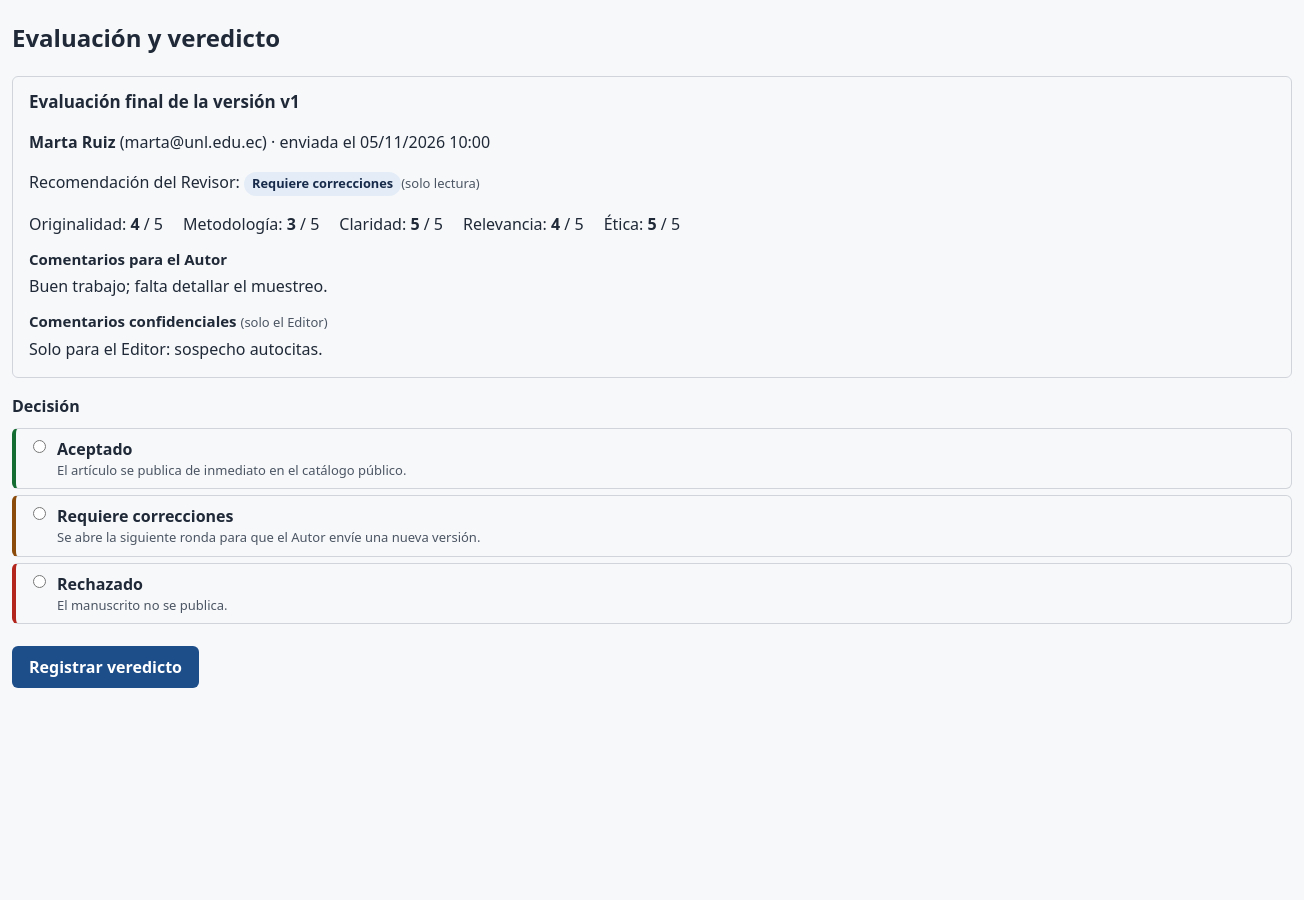
VerdictFormComponent › validación › pedir correcciones exige las observaciones
This screenshot has width=1304, height=900.
What coordinates should you click on to do the following:
click the 2nd radio button
I would click on:
 (40, 514)
Its box is [33,507,46,520].
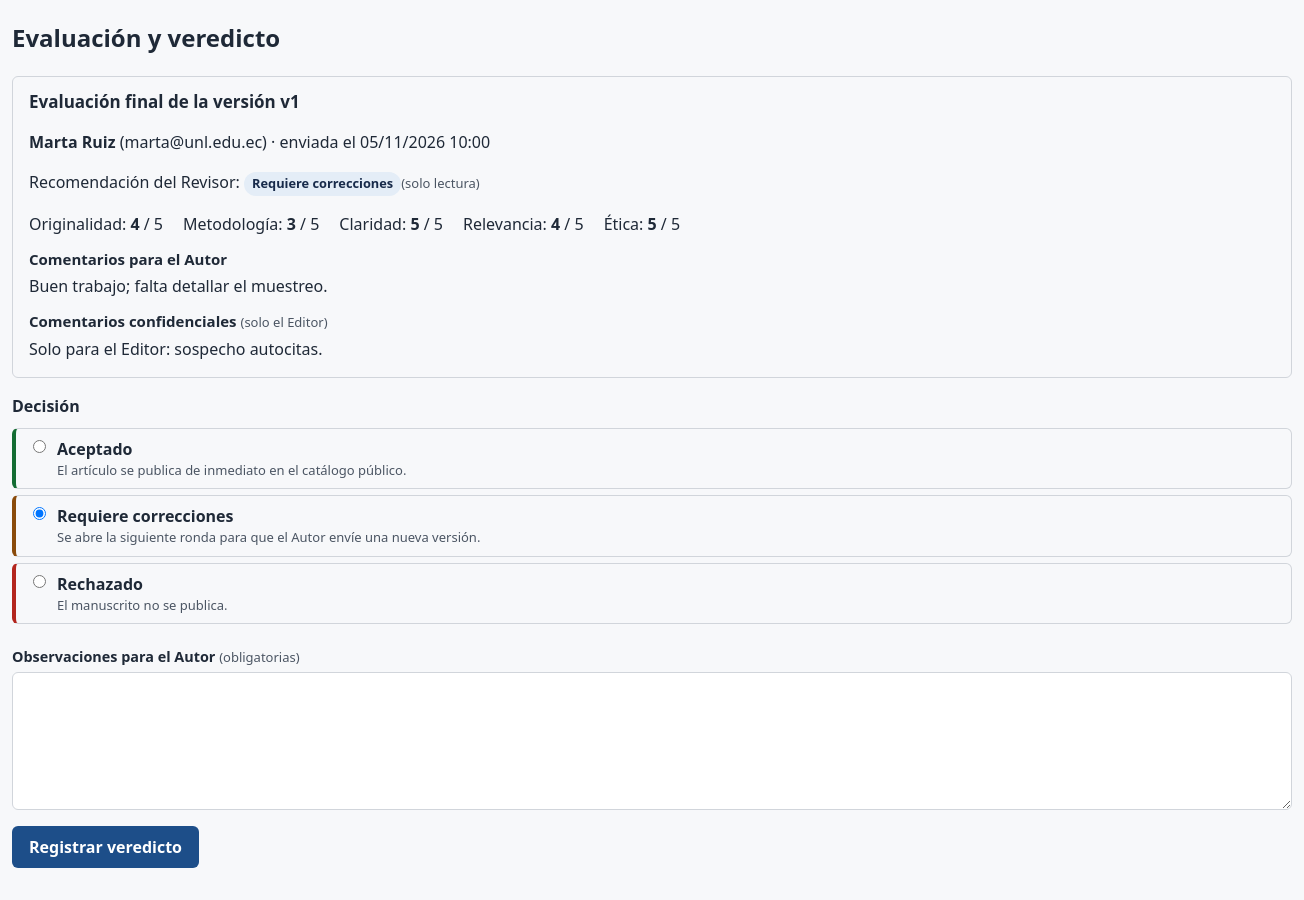
Now the text box named "observations" is shown, box [12,672,1292,810]
What coordinates should you click on to do the following:
click the submit button
I would click on:
 (106, 847)
Its box is [12,826,199,868].
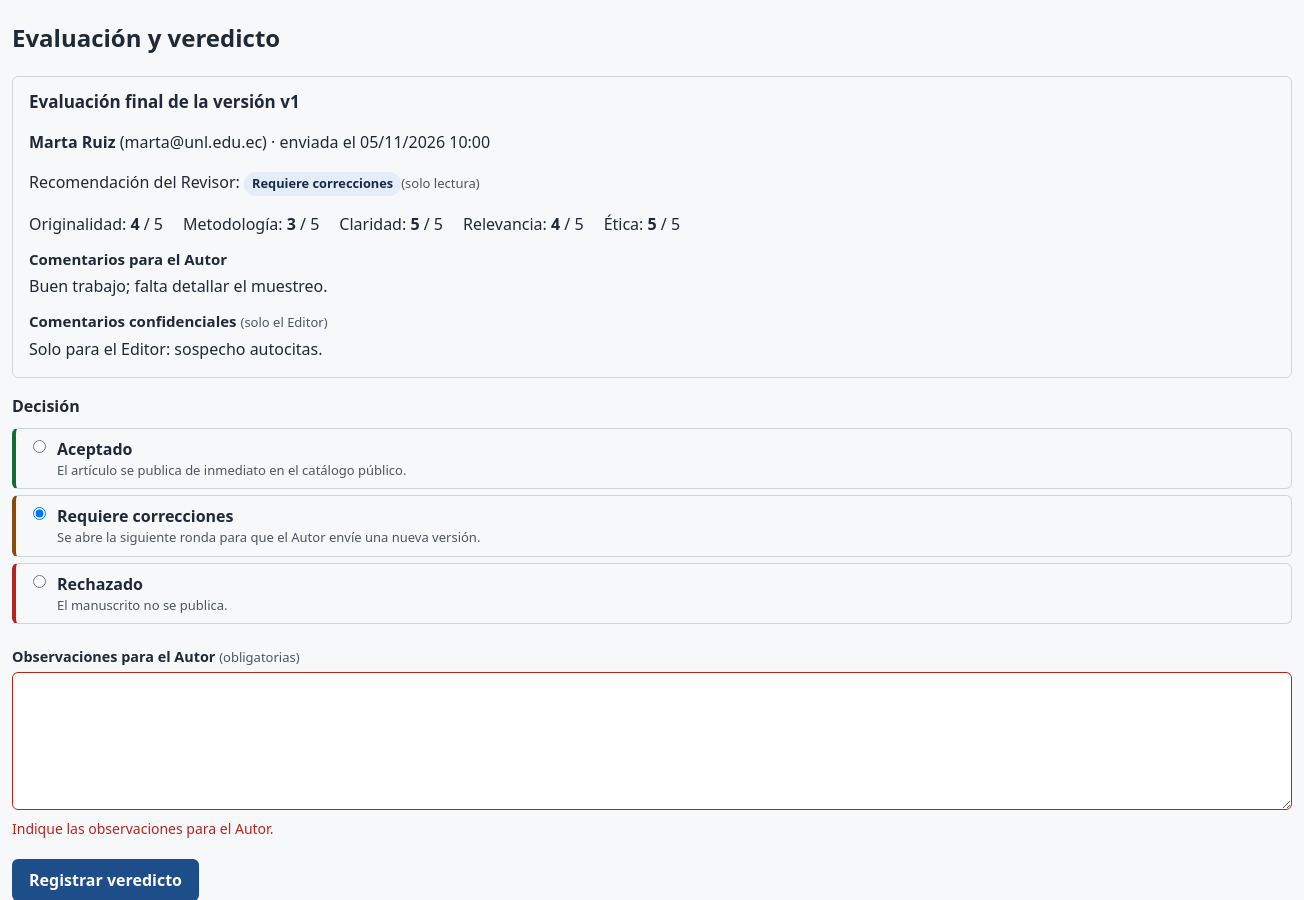
Now the message "Indique las observaciones para el Autor." is shown, box [12,819,273,838]
